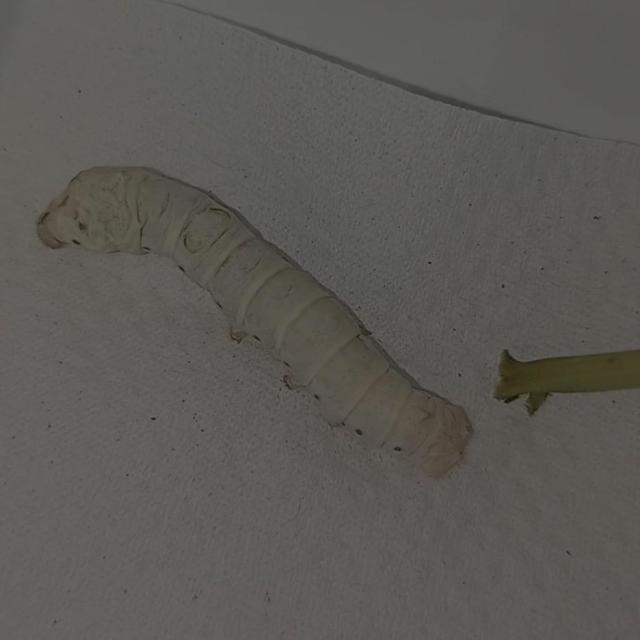Healthy: (26, 138, 499, 514)
